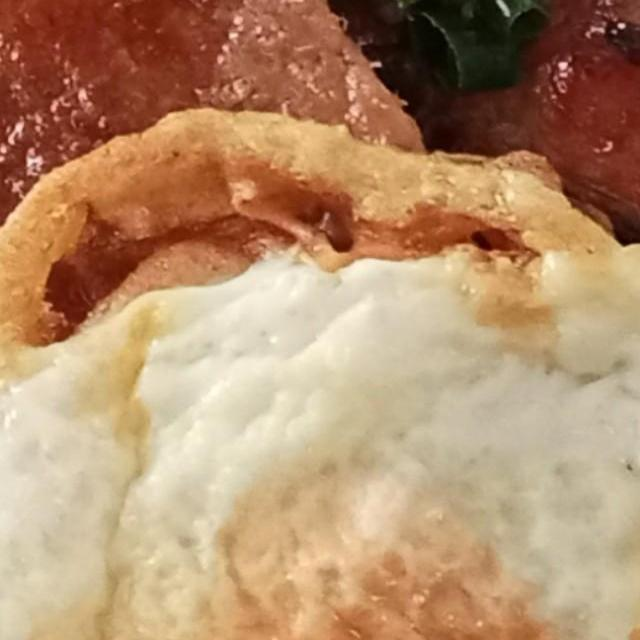com suon bi trung: (0, 0, 640, 640)
suon: (191, 0, 640, 530), (0, 0, 512, 342)
trung: (0, 90, 640, 640)
